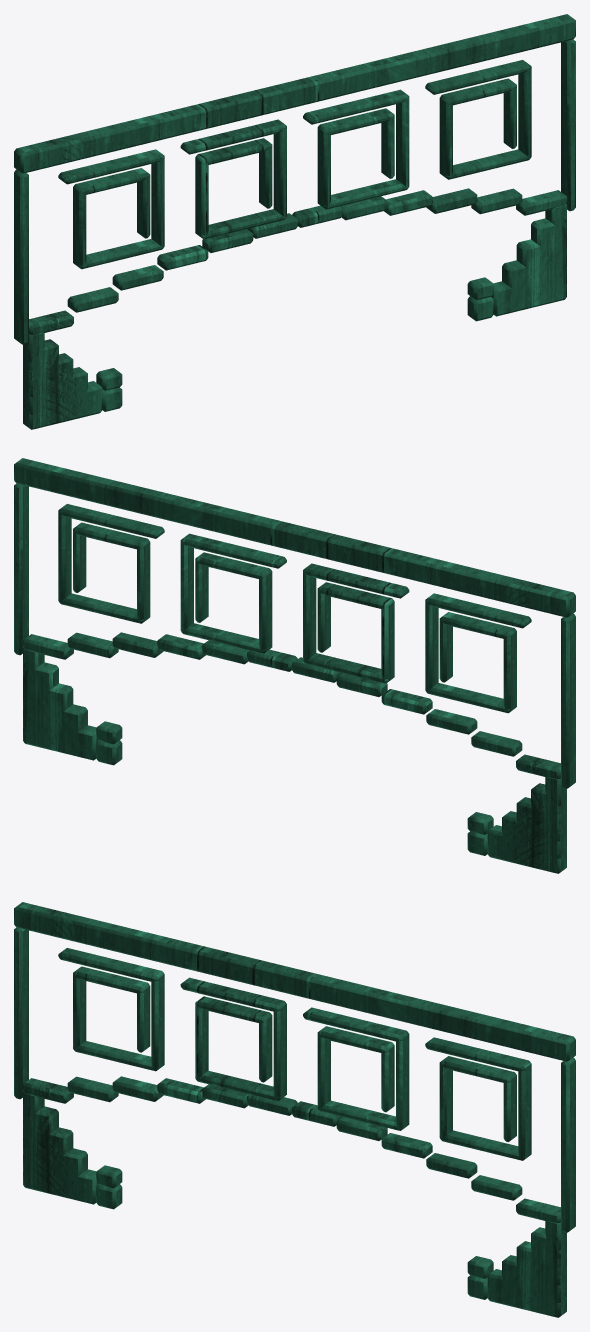
The model's file is meizi.glb.
The picture shows the model from 3 angles, top to bottom: view 1: azimuth 30°, elevation 25°; view 2: azimuth 150°, elevation 25°; view 3: azimuth 330°, elevation 25°; orthographic projection.
Parts seen in each view (by area): view 1: meizi; view 2: meizi; view 3: meizi.
Part boxes in pixels (x1=…): meizi: x1=14, y1=14, x2=575, y2=429; meizi: x1=14, y1=458, x2=575, y2=873; meizi: x1=14, y1=902, x2=575, y2=1317.
Bounding box in the file's own units: 1 × 0.48 × 0.028.
Materials: 1 (1 with a texture image).
